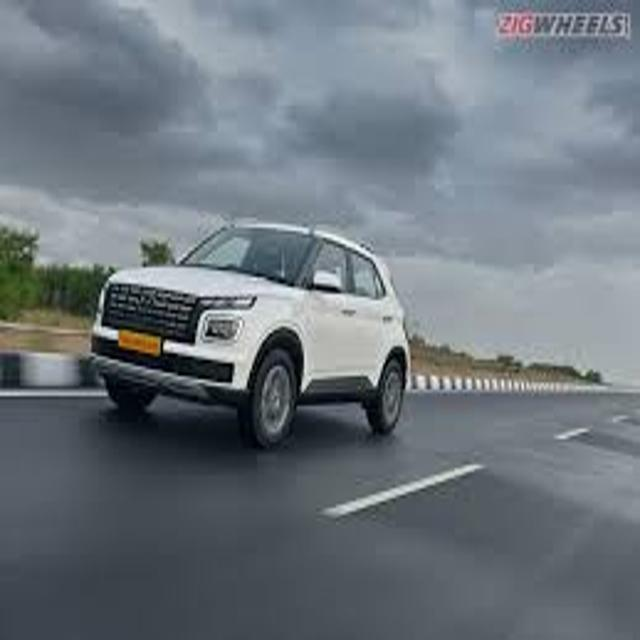car: (91, 222, 408, 448)
